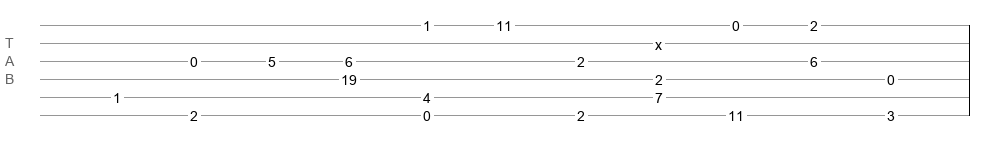0: (190, 54, 198, 64), (423, 108, 431, 118), (732, 18, 740, 28), (887, 72, 895, 82)
1: (113, 90, 121, 100), (423, 18, 431, 28)
11: (496, 18, 512, 28), (728, 108, 744, 118)
19: (341, 72, 357, 82)
2: (190, 108, 198, 118), (577, 108, 585, 118), (577, 54, 585, 64), (655, 72, 663, 82), (810, 18, 818, 28)
3: (887, 108, 895, 118)
4: (423, 90, 431, 100)
5: (268, 54, 276, 64)
6: (345, 54, 353, 64), (810, 54, 818, 64)
7: (655, 90, 663, 100)
x: (655, 37, 662, 45)
